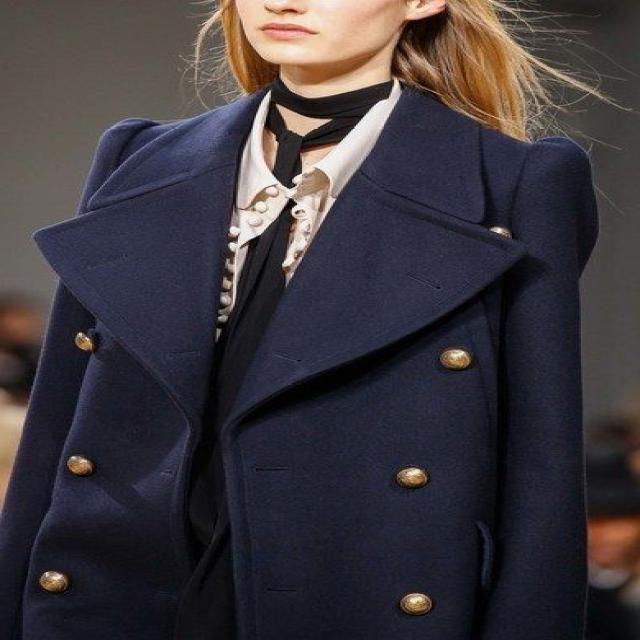coat: (0, 75, 599, 640)
short sleeve shirt: (197, 76, 406, 481)
